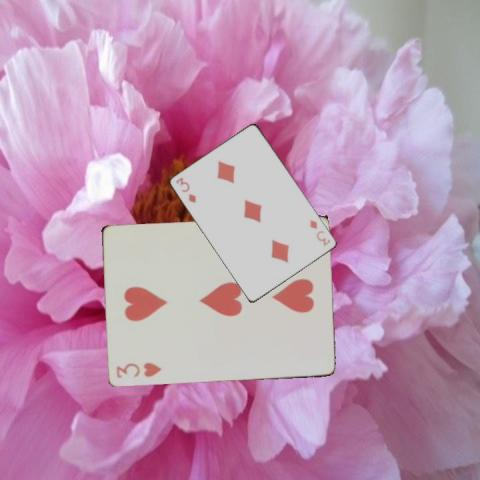3d: (307, 217, 332, 247), (174, 174, 198, 204)
3h: (112, 360, 162, 380)
